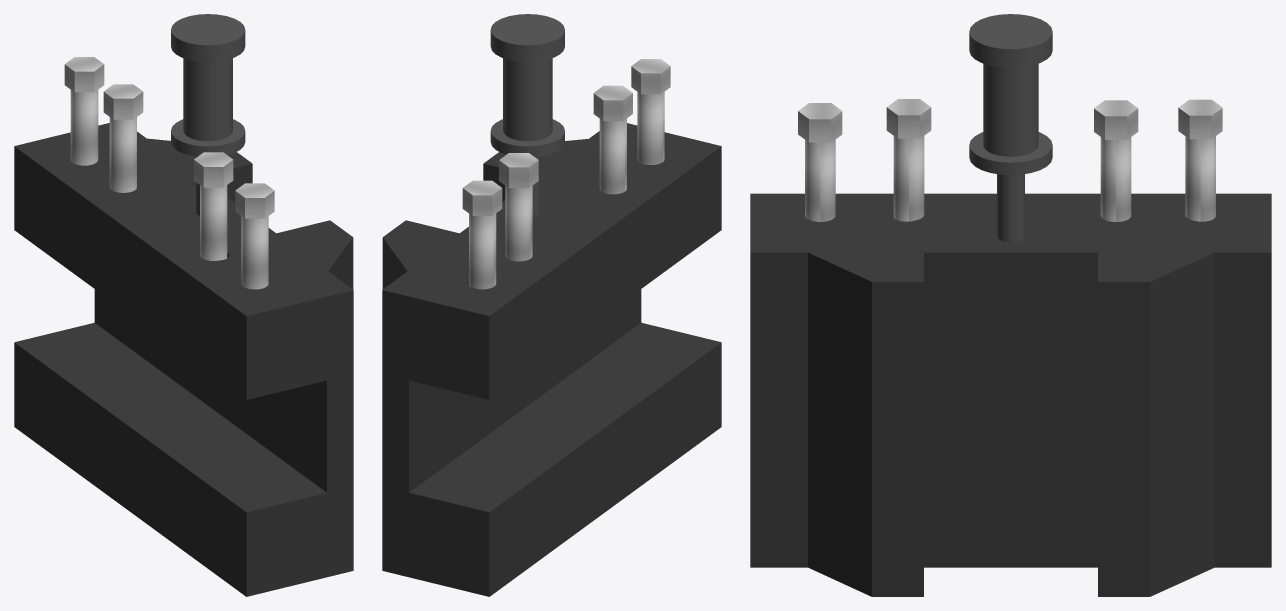
Rendered from CutingTool2.fbx.
3 renders of one model, left to right at view 1: azimuth 30°, elevation 25°; view 2: azimuth 150°, elevation 25°; view 3: azimuth 270°, elevation 25°, orthographic. The views are drawn at different scales.
Visible parts, largest first — view 1: Group1, screw_______________3, screw_______________4, screw_______________2, screw_______________1; view 2: Group1, screw_______________3, screw_______________2, screw_______________4, screw_______________1; view 3: Group1, screw_______________2, screw_______________4, screw_______________3, screw_______________1.
Part boxes in pixels (x1,y1,x2,y2): Group1: [14, 14, 353, 596]; screw_______________3: [64, 57, 104, 165]; screw_______________4: [103, 84, 143, 192]; screw_______________2: [194, 152, 233, 260]; screw_______________1: [235, 183, 274, 289]; Group1: [382, 14, 721, 596]; screw_______________3: [462, 180, 502, 289]; screw_______________2: [593, 85, 632, 194]; screw_______________4: [499, 153, 538, 261]; screw_______________1: [631, 59, 670, 164]; Group1: [750, 14, 1271, 596]; screw_______________2: [886, 99, 931, 221]; screw_______________4: [1094, 100, 1138, 221]; screw_______________3: [1178, 99, 1222, 221]; screw_______________1: [798, 103, 842, 221].
Size of the model in its own units: 37.2 by 102 by 93.
